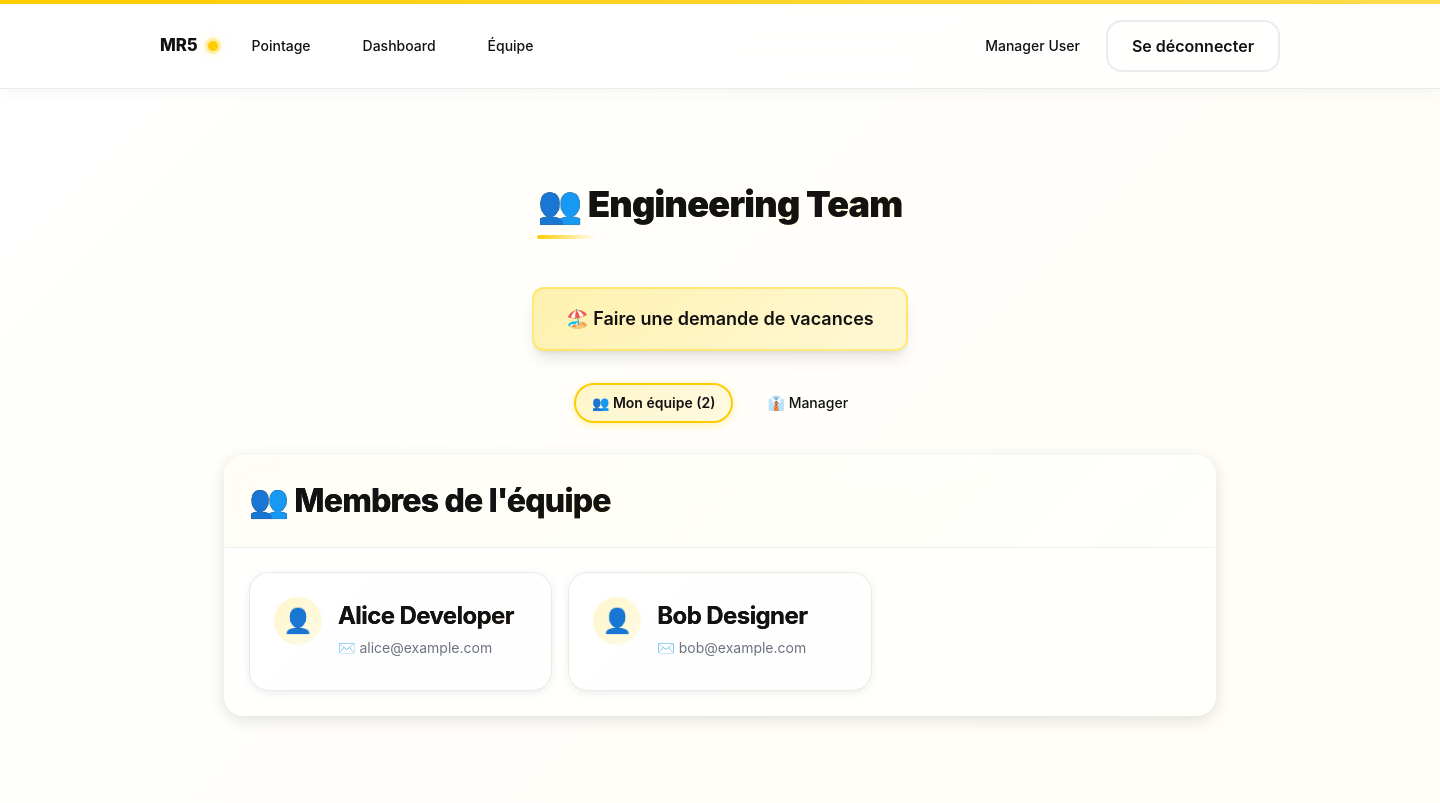
TeamManagePage Component › should switch between members and manager tabs
This screenshot has width=1440, height=803.
Expected: the heading "👥 Engineering Team" is shown, [537,177,903,231]
Click the button "👔 Manager" at (808,403), box [749,383,866,423]
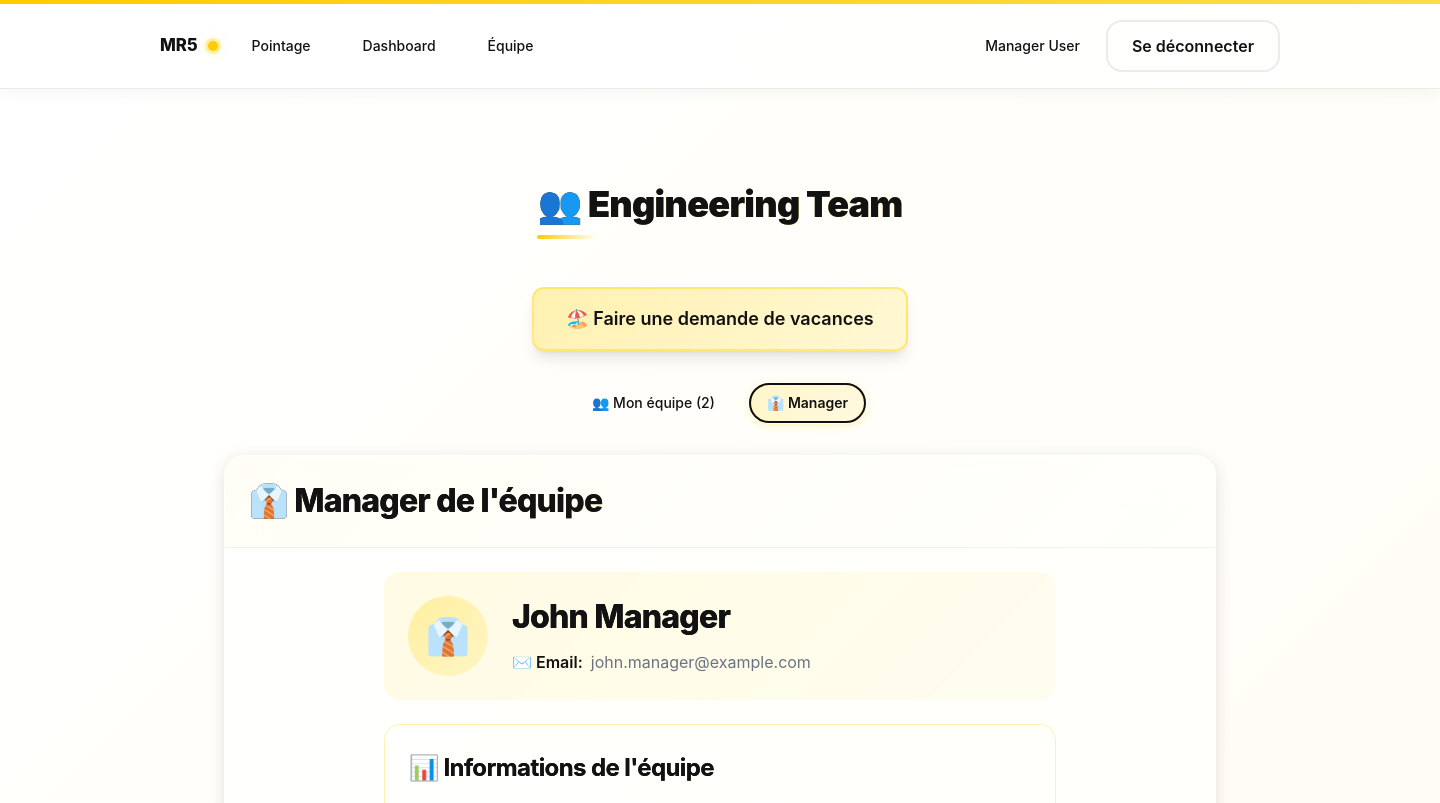
Now the heading "John Manager" is shown, box [512,596,1032,638]
